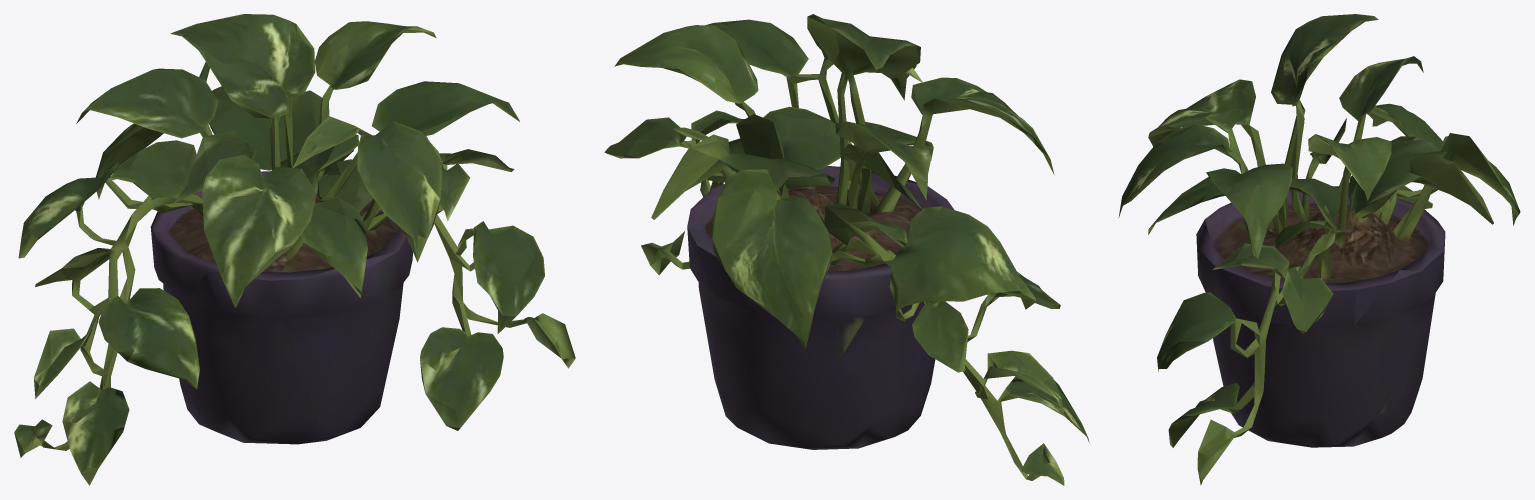
File: plant.glb
3 views of the same model, side by side, from view 1: azimuth 30°, elevation 25°; view 2: azimuth 150°, elevation 25°; view 3: azimuth 270°, elevation 25° (orthographic). The views are drawn at different scales.
Parts seen in each view (by area): view 1: plant; view 2: plant; view 3: plant.
Part boxes in pixels (x1=…): plant: x1=14, y1=14, x2=575, y2=485; plant: x1=604, y1=14, x2=1089, y2=485; plant: x1=1118, y1=14, x2=1520, y2=485.
Bounding box in the file's own units: 0.3723 × 0.2904 × 0.2849.
1 material, 1 textured.
